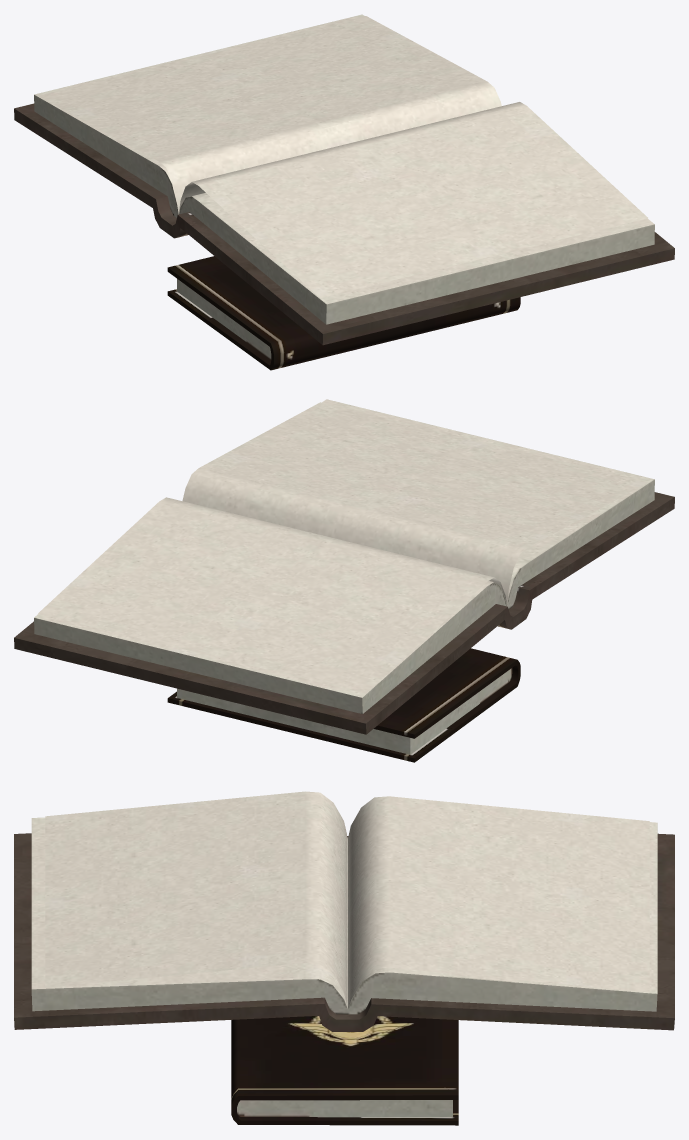
The model's file is booksclosed.glb.
3 renders of one model, top to bottom at view 1: azimuth 30°, elevation 25°; view 2: azimuth 150°, elevation 25°; view 3: azimuth 270°, elevation 25°, orthographic. The views are drawn at different scales.
Parts seen in each view (by area): view 1: BookOpened; view 2: BookOpened; view 3: BookOpened.
Boxes of the visible parts, bbox=[...] form: BookOpened: bbox=[14, 14, 674, 370]; BookOpened: bbox=[14, 399, 674, 762]; BookOpened: bbox=[14, 791, 674, 1125].
Bounding box in the file's own units: 41.83 × 19.54 × 63.63.
Materials: 1 (1 with a texture image).
